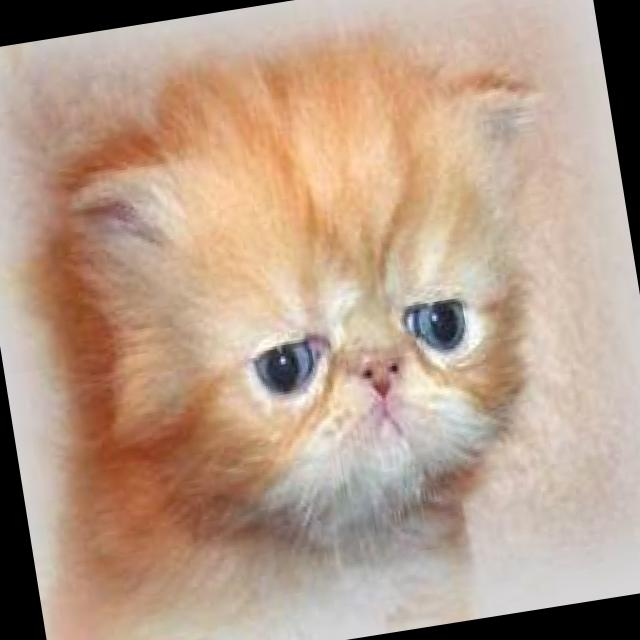animal: (0, 22, 609, 640)
